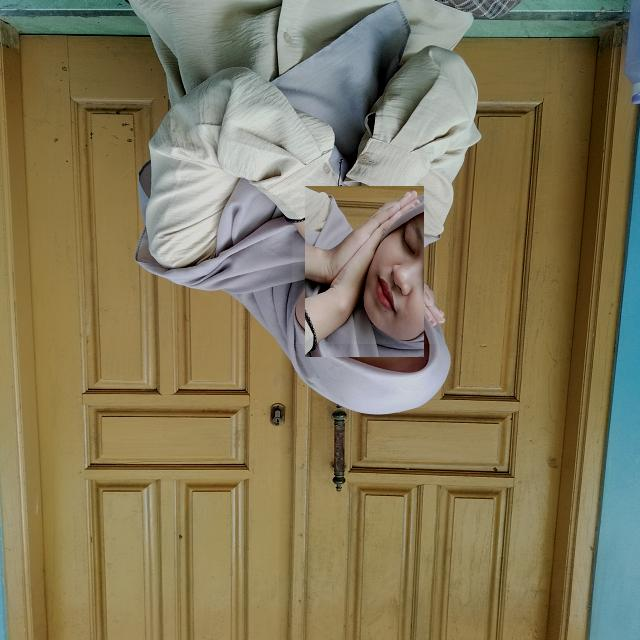tidur: (292, 198, 437, 344)
